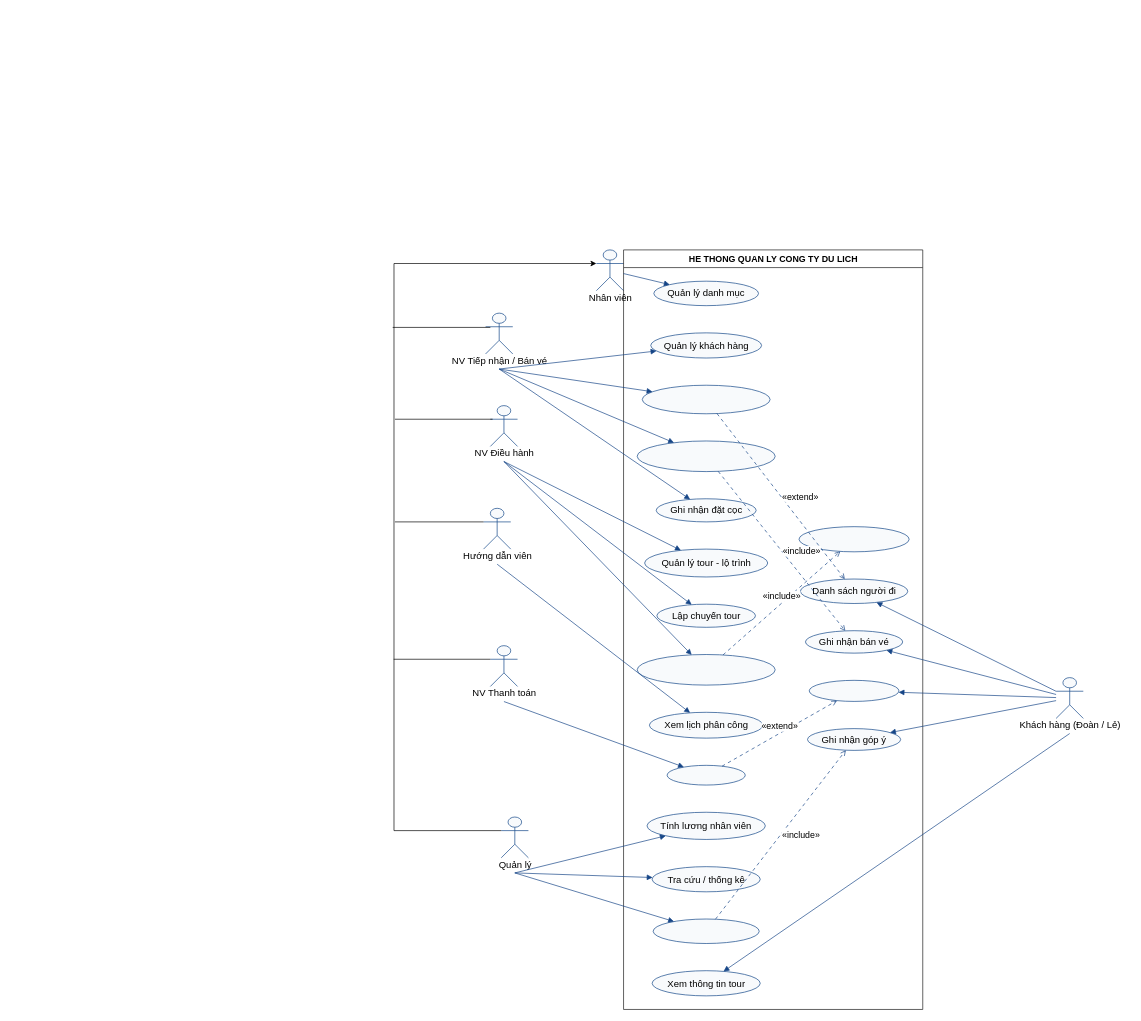
Some shapes in this 1141 by 1021 pixel diagram are drawn without their labels. The shapes that lost their labels are listed below. From the top down, each one's centre as x and y in pixels, then its label:
the point at 706,399: Lập phiếu đăng ký đoàn
the point at 705,456: Lập phiếu đăng ký chuyến
the point at 853,539: Kiểm tra trùng lịch
the point at 705,669: Phân công hướng dẫn viên
the point at 854,690: Xử lý mất cọc
the point at 705,775: Thanh toán
the point at 705,931: Gửi phiếu khảo sát
